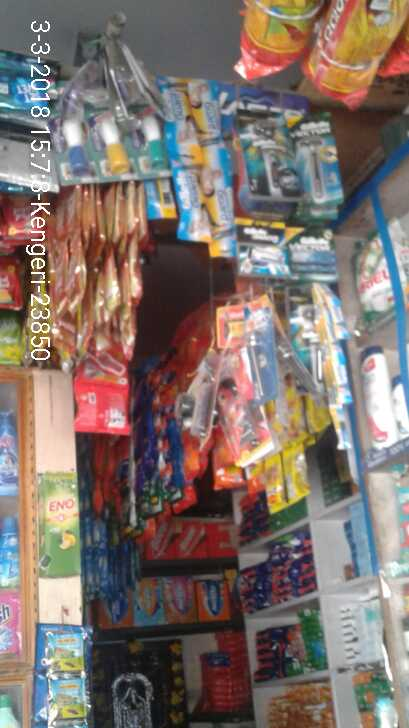beauty: (163, 79, 231, 237), (237, 95, 303, 202), (358, 350, 399, 444), (301, 124, 345, 205), (235, 219, 295, 276), (287, 227, 336, 275)
home: (354, 240, 399, 316)
